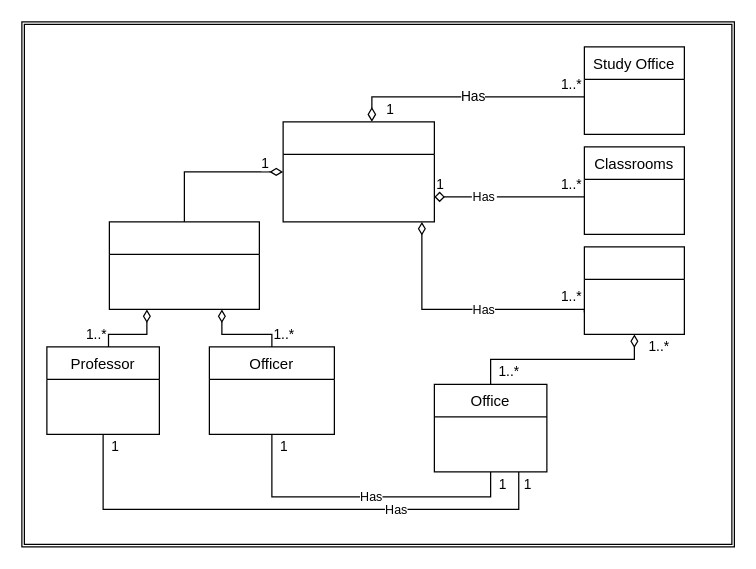
This 756x569 diagram has some shape labels left out. The shapes that lost their labels are listed below. From the top down, each one's centre as x and y in pixels, then its label:
the point at 358,171: Univercity
the point at 183,265: Staffs
the point at 633,290: Department
